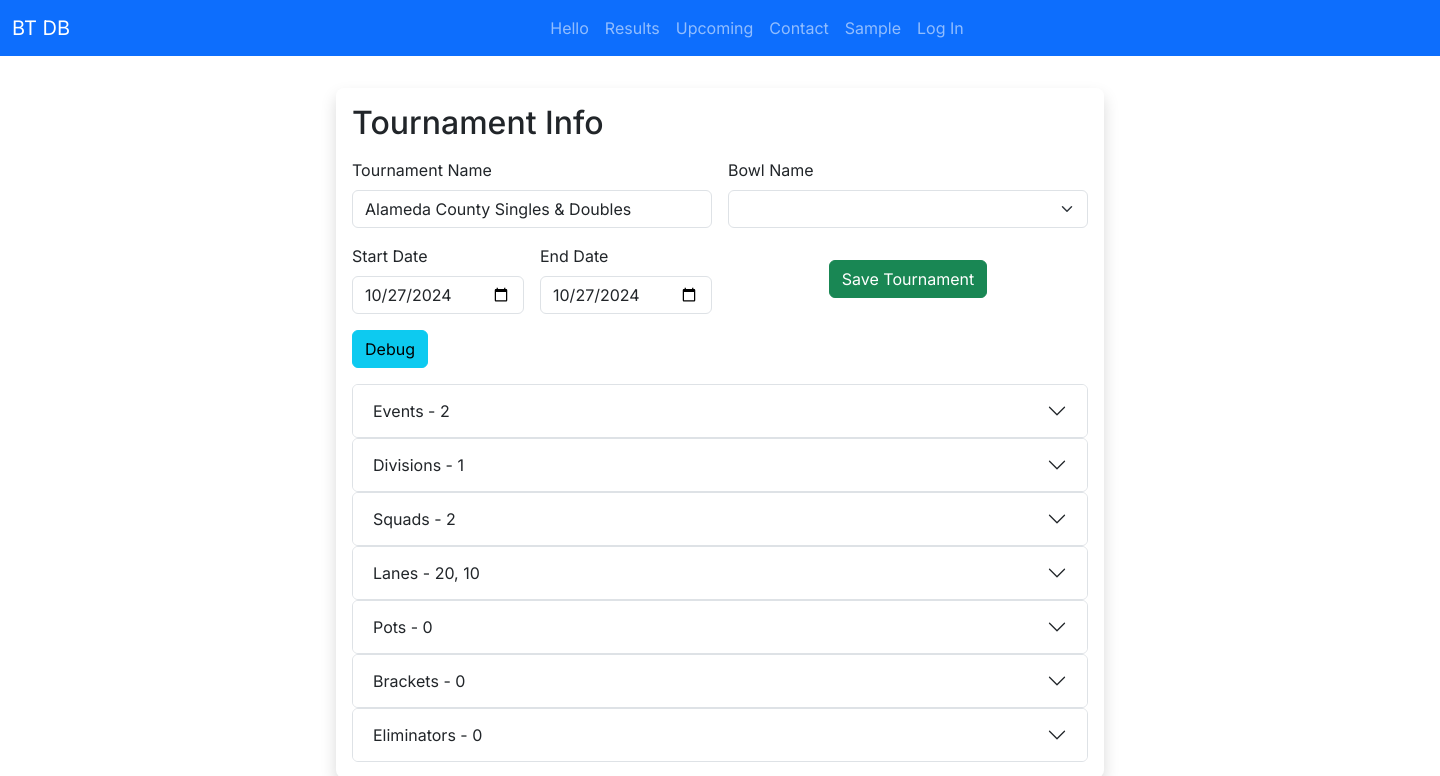
Test: TmntDataPage - Squads Component › show accordian error for next squad › render multiple errors
This screenshot has width=1440, height=776.
Click the button "Squads - 2" at (410, 519), box [353, 493, 1087, 545]
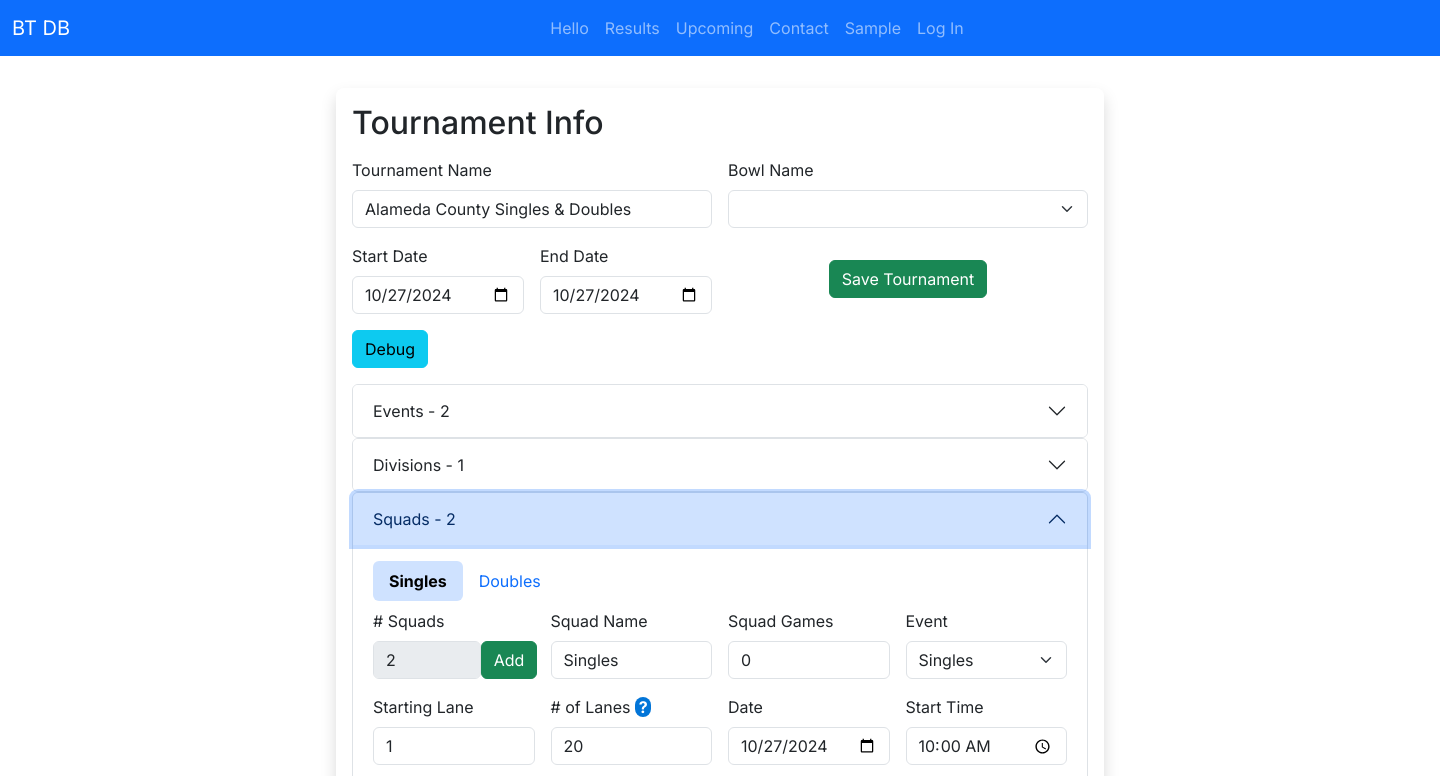
Click the button "Save Tournament" at (908, 279), box [829, 260, 987, 298]
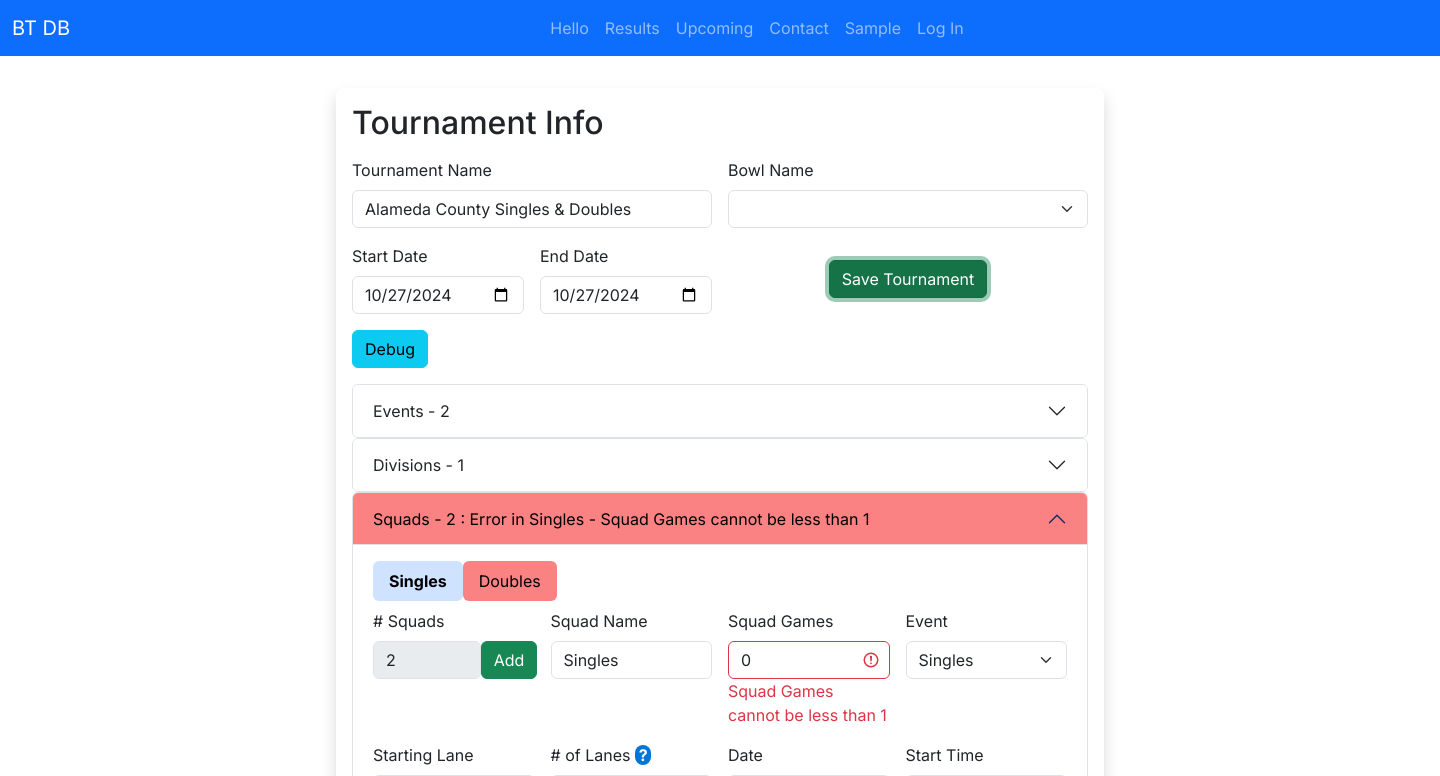
Expected: the text with test id "dangerSquadGames" shows "Games cannot be less than", [728, 681, 887, 725]
Expected: the button "Squads" shows "Games cannot be less than", [353, 493, 1087, 545]
